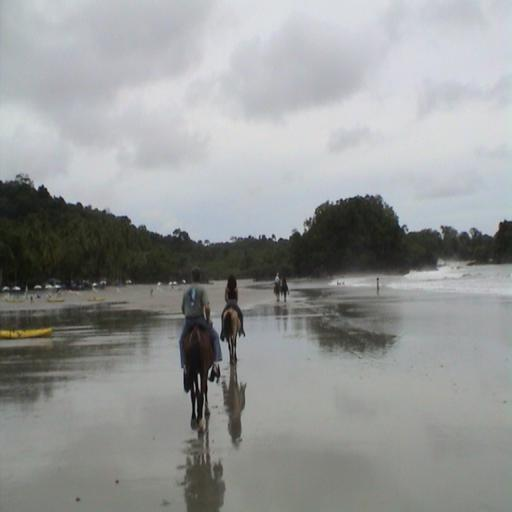Horse: (179, 324, 217, 433), (220, 303, 242, 365)
